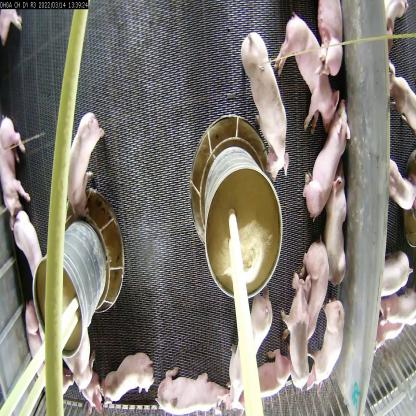Pig: (279, 18, 342, 134), (242, 27, 292, 172), (226, 287, 276, 408), (301, 99, 350, 219), (64, 105, 107, 211), (158, 352, 223, 415), (20, 304, 52, 414), (281, 267, 311, 384), (98, 359, 154, 415), (0, 117, 29, 223), (313, 298, 347, 386), (314, 0, 347, 87), (247, 344, 298, 400), (7, 204, 42, 282), (300, 252, 330, 340), (326, 177, 350, 283)
